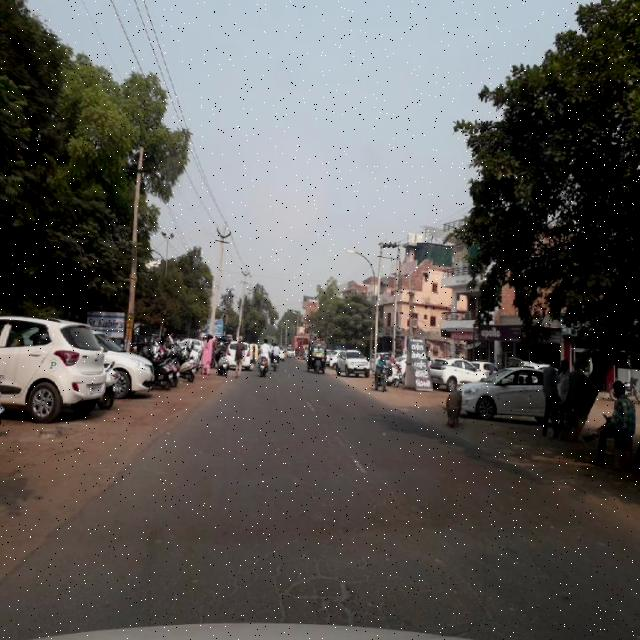D20: (238, 554, 378, 628)
D44: (337, 432, 379, 482)
